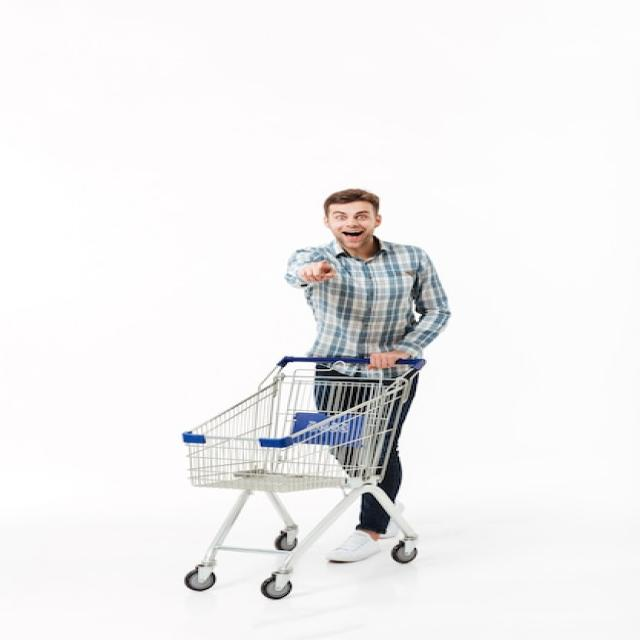Person: (284, 189, 450, 563)
